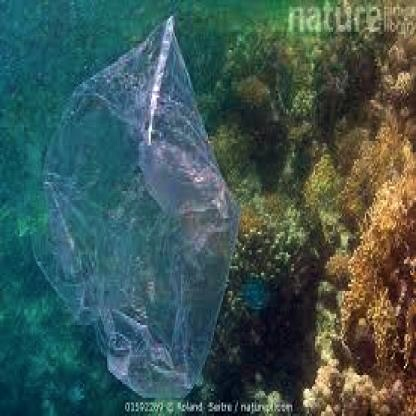pbag: (22, 11, 242, 400)
